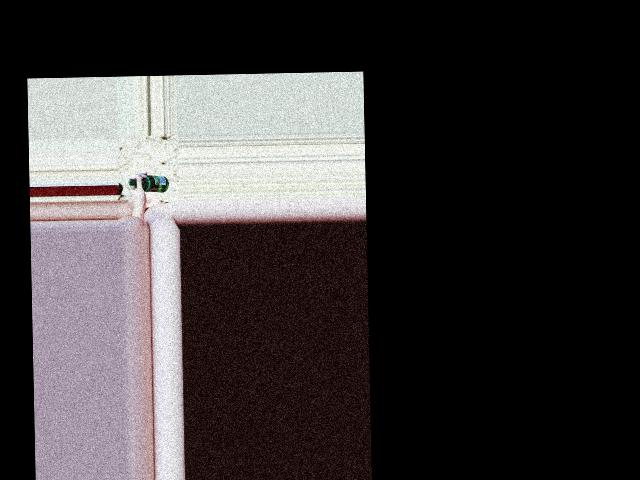beer: (128, 175, 169, 193)
